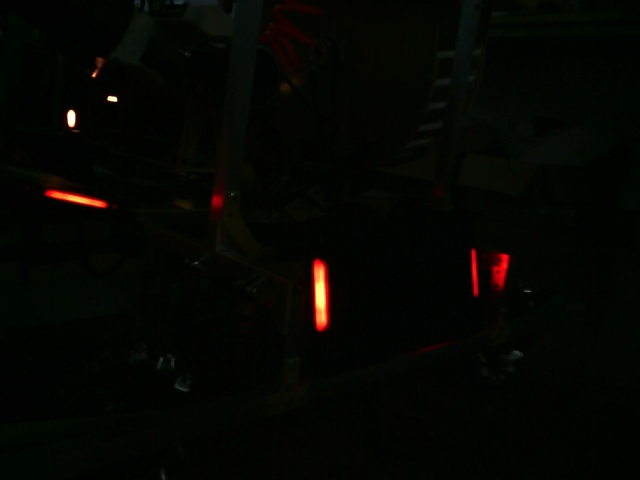lamp: (307, 255, 330, 334)
